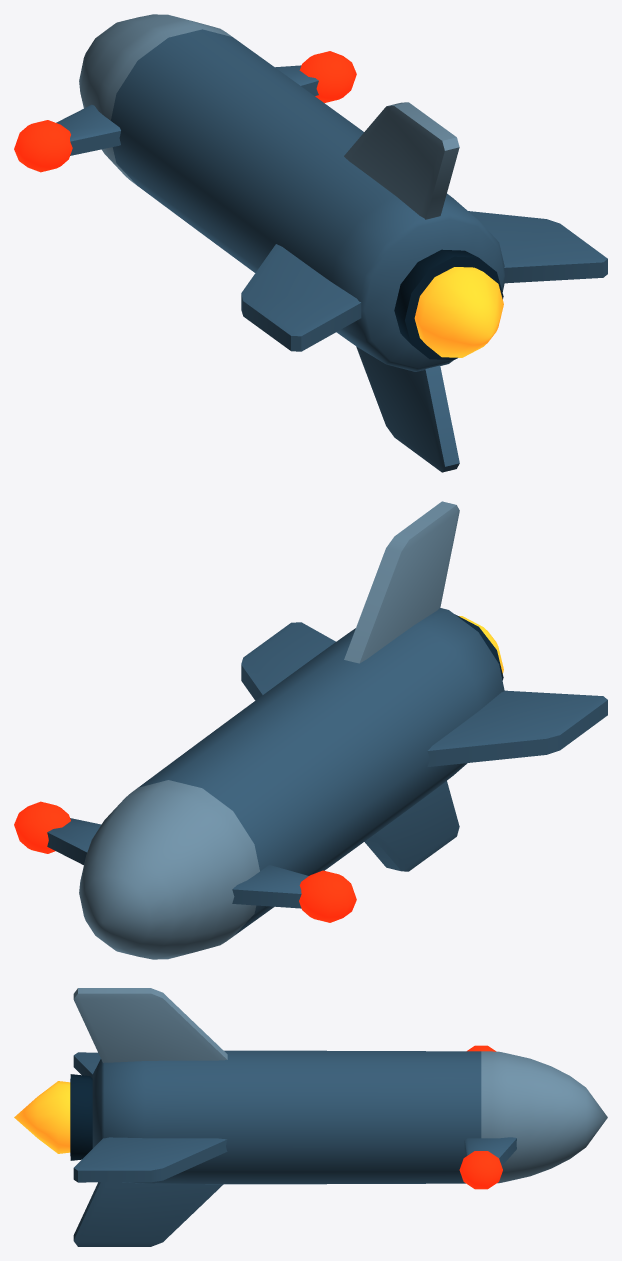
Rendered from shot_microsol.glb.
3 renders of one model, top to bottom at view 1: azimuth 30°, elevation 25°; view 2: azimuth 150°, elevation 25°; view 3: azimuth 270°, elevation 25°, orthographic. The views are drawn at different scales.
Parts seen in each view (by area): view 1: mso_body0, mso_fin.001, mso_fin.002, mso_fin.003, mso_flame, mso_fin, mso_body1, mso_nozzle, mso_lamp.001, mso_canard.001, mso_lamp; view 2: mso_body0, mso_body1, mso_fin.001, mso_fin.002, mso_fin.003, mso_fin, mso_lamp.001, mso_canard.001, mso_lamp, mso_canard; view 3: mso_body0, mso_body1, mso_fin.001, mso_fin.003, mso_fin, mso_flame, mso_nozzle, mso_lamp, mso_canard, mso_fin.002.
Boxes of the visible parts, bbox=[...] form: mso_body0: bbox=[111, 29, 504, 371]; mso_fin.001: bbox=[344, 102, 459, 219]; mso_fin.002: bbox=[241, 244, 361, 351]; mso_fin.003: bbox=[356, 346, 459, 472]; mso_flame: bbox=[414, 267, 503, 357]; mso_fin: bbox=[468, 211, 607, 283]; mso_body1: bbox=[79, 14, 232, 185]; mso_nozzle: bbox=[394, 249, 503, 359]; mso_lamp.001: bbox=[14, 120, 72, 172]; mso_canard.001: bbox=[56, 104, 120, 155]; mso_lamp: bbox=[299, 51, 356, 102]; mso_body0: bbox=[138, 608, 504, 935]; mso_body1: bbox=[79, 780, 259, 959]; mso_fin.001: bbox=[344, 501, 459, 663]; mso_fin.002: bbox=[427, 690, 607, 766]; mso_fin.003: bbox=[364, 781, 459, 871]; mso_fin: bbox=[241, 622, 335, 700]; mso_lamp.001: bbox=[299, 870, 356, 922]; mso_canard.001: bbox=[232, 865, 308, 908]; mso_lamp: bbox=[14, 801, 70, 853]; mso_canard: bbox=[47, 818, 101, 865]; mso_body0: bbox=[92, 1050, 481, 1184]; mso_body1: bbox=[481, 1051, 607, 1183]; mso_fin.001: bbox=[73, 988, 227, 1062]; mso_fin.003: bbox=[73, 1182, 223, 1246]; mso_fin: bbox=[73, 1137, 227, 1182]; mso_flame: bbox=[14, 1081, 70, 1153]; mso_nozzle: bbox=[70, 1074, 92, 1160]; mso_lamp: bbox=[459, 1151, 502, 1189]; mso_canard: bbox=[464, 1137, 516, 1165]; mso_fin.002: bbox=[73, 1052, 100, 1078].
Size of the model in its own units: 6.75 by 6.4 by 13.6.
